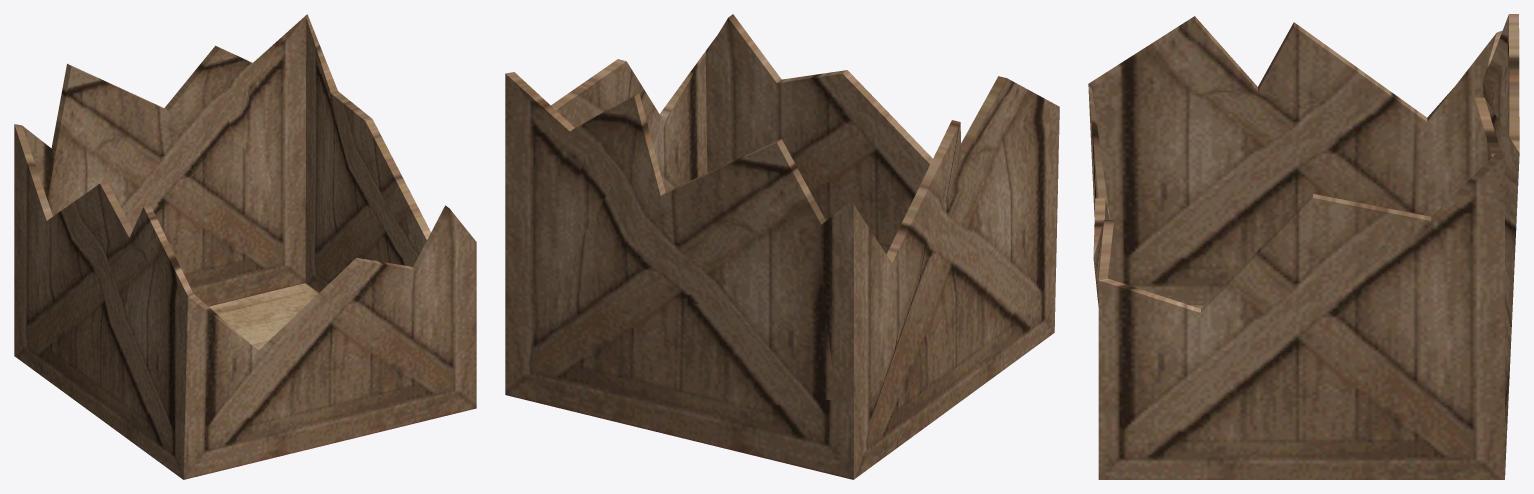
File: SM_Crate_Wooden_03.fbx
The picture shows the model from 3 angles, left to right: view 1: azimuth 30°, elevation 25°; view 2: azimuth 150°, elevation 25°; view 3: azimuth 270°, elevation 25°; orthographic projection. The views are drawn at different scales.
Parts seen in each view (by area): view 1: SM_Crate_Wooden_03; view 2: SM_Crate_Wooden_03; view 3: SM_Crate_Wooden_03.
Part boxes in pixels (box(x1,y1,x2,y2)): SM_Crate_Wooden_03: box(14, 14, 476, 479); SM_Crate_Wooden_03: box(505, 14, 1059, 479); SM_Crate_Wooden_03: box(1088, 14, 1519, 479).
Size of the model in its own units: 202 by 179 by 212.
